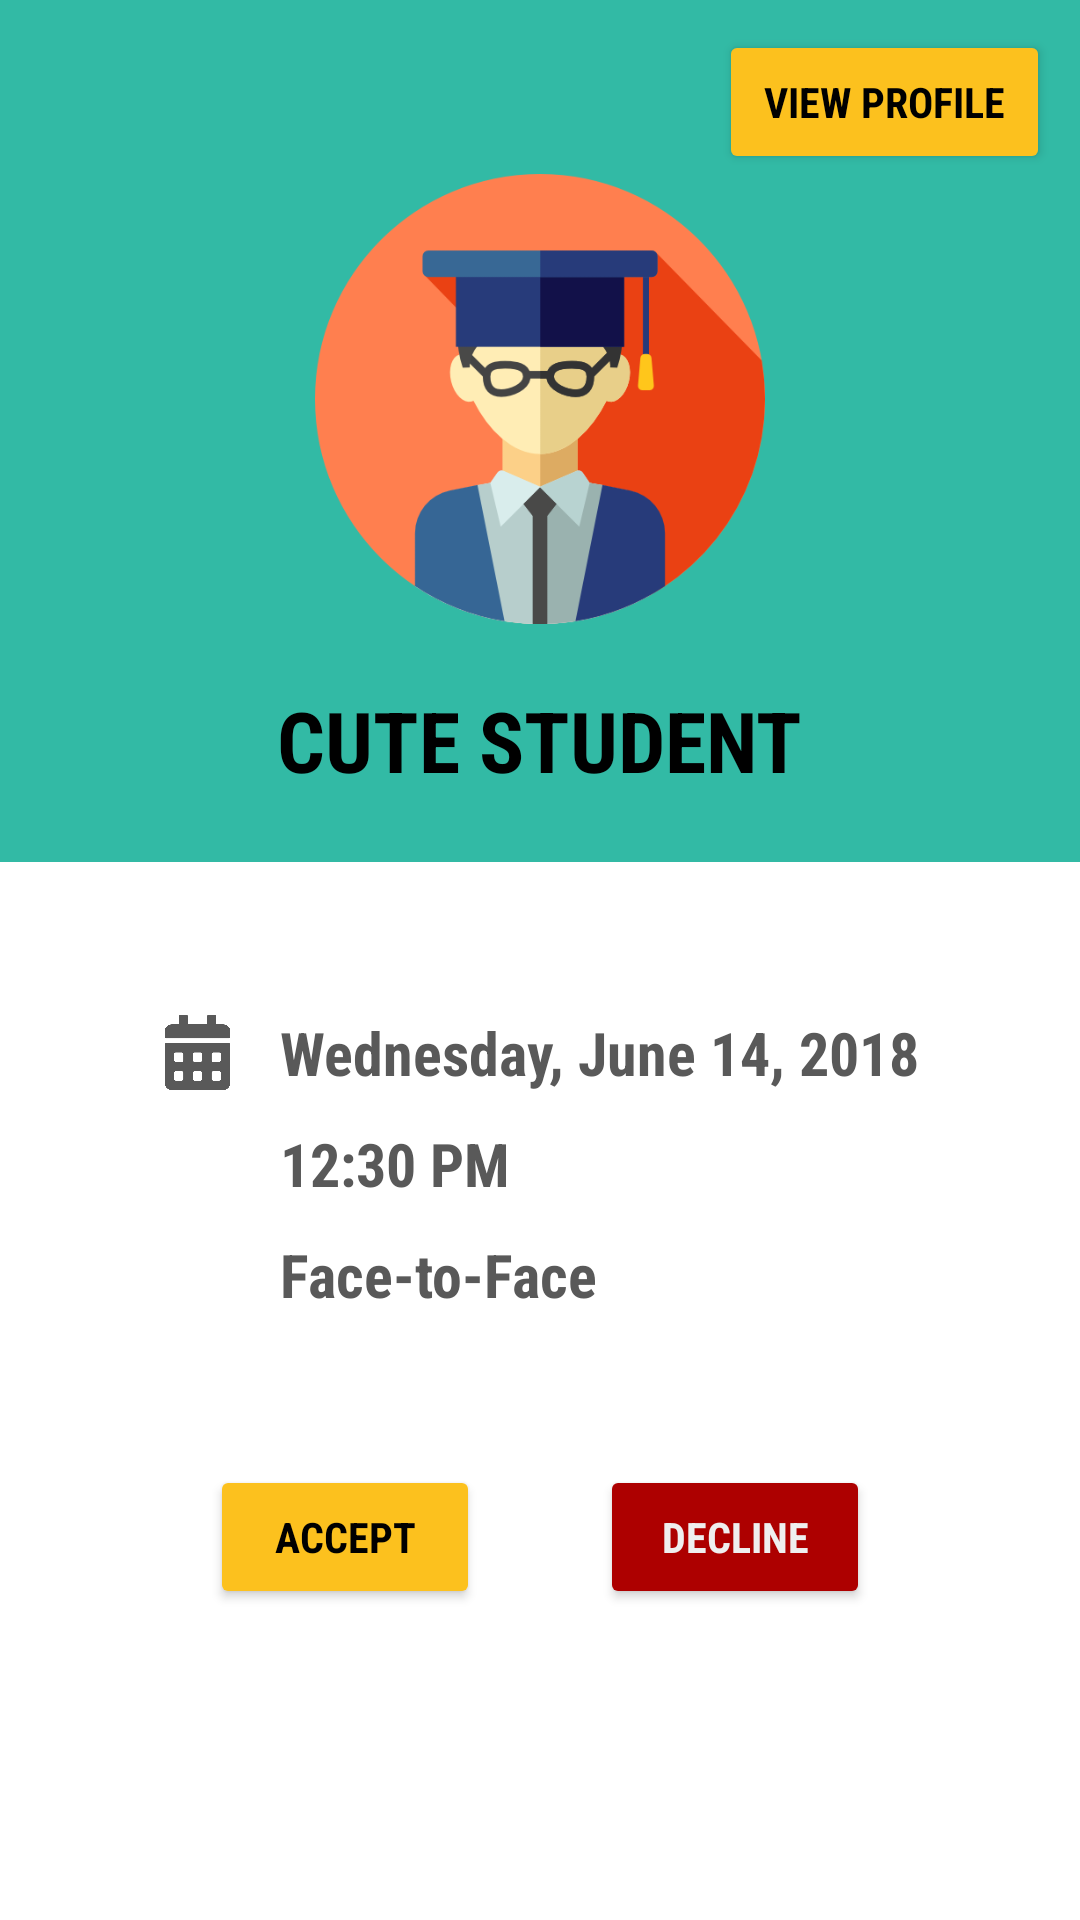

Icons on this 1080 x 1920 Android screen, each with its box as (x1, y1, x2, y2):
calendar: (165, 1015, 230, 1090)
